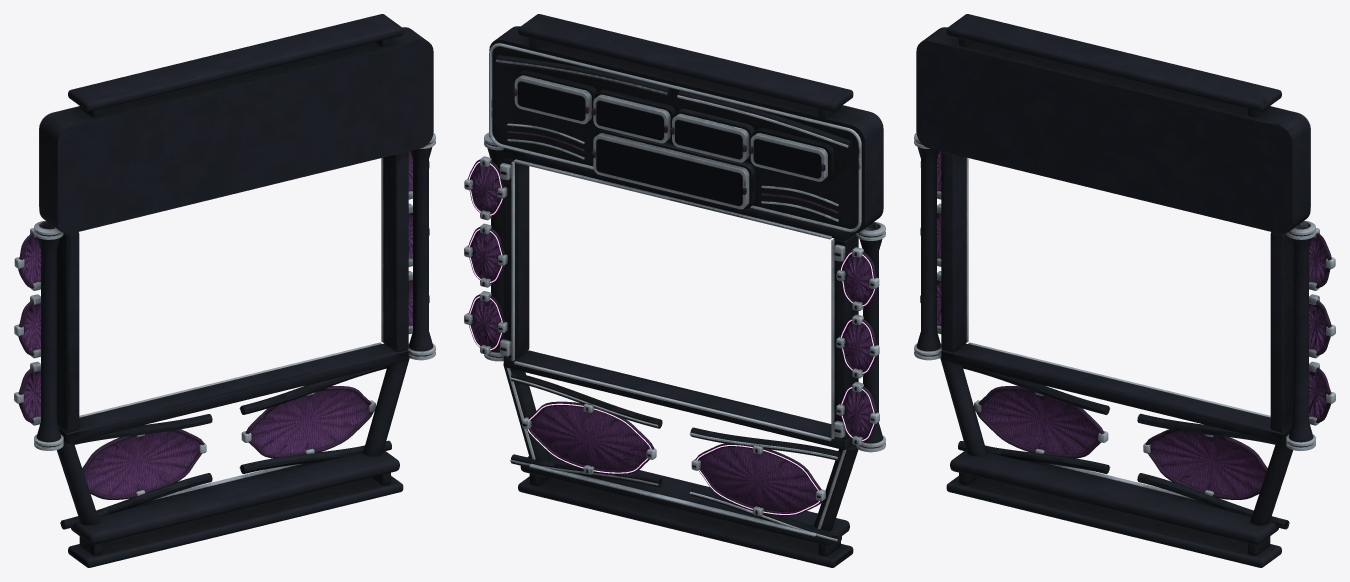
The picture shows the model from 3 angles, left to right: view 1: azimuth 30°, elevation 25°; view 2: azimuth 150°, elevation 25°; view 3: azimuth 330°, elevation 25°; orthographic projection.
Visible parts, largest first — view 1: Containment_black, Mycelial_violet, Platinum_clamps, Violet_structural_fibers; view 2: Containment_black, Platinum_clamps, Mycelial_violet, Display_dark, Violet_structural_fibers, Held_hypha_glow; view 3: Containment_black, Mycelial_violet, Platinum_clamps, Violet_structural_fibers.
Part boxes in pixels (x1=…): Containment_black: x1=36, y1=14, x2=433, y2=567; Mycelial_violet: x1=22, y1=151, x2=412, y2=496; Platinum_clamps: x1=14, y1=106, x2=435, y2=523; Violet_structural_fibers: x1=18, y1=233, x2=373, y2=499; Containment_black: x1=465, y1=14, x2=883, y2=567; Platinum_clamps: x1=464, y1=43, x2=885, y2=541; Mycelial_violet: x1=471, y1=164, x2=873, y2=511; Display_dark: x1=517, y1=81, x2=821, y2=205; Violet_structural_fibers: x1=468, y1=89, x2=877, y2=515; Held_hypha_glow: x1=468, y1=161, x2=874, y2=514; Containment_black: x1=916, y1=14, x2=1313, y2=567; Mycelial_violet: x1=937, y1=151, x2=1327, y2=496; Platinum_clamps: x1=914, y1=106, x2=1335, y2=523; Violet_structural_fibers: x1=976, y1=233, x2=1331, y2=499.
Size of the model in its own units: 8.92 by 9.6 by 1.07.
Materials: 6 (5 with a texture image).
